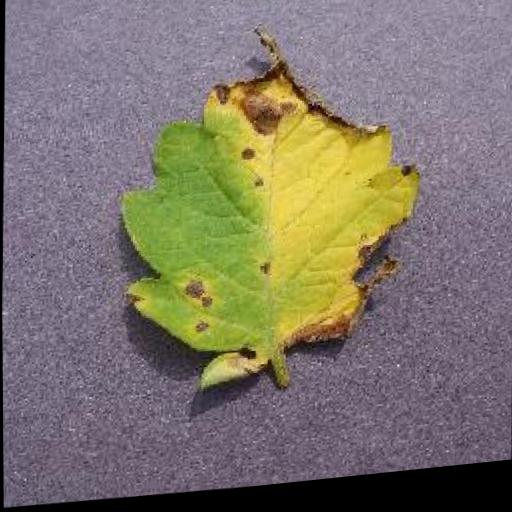Septoria: (113, 13, 425, 406)
